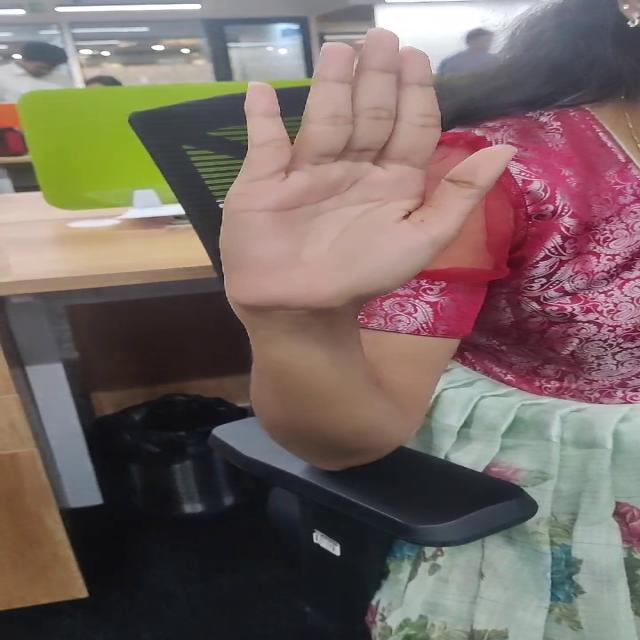no-gloves: (202, 23, 526, 309)
